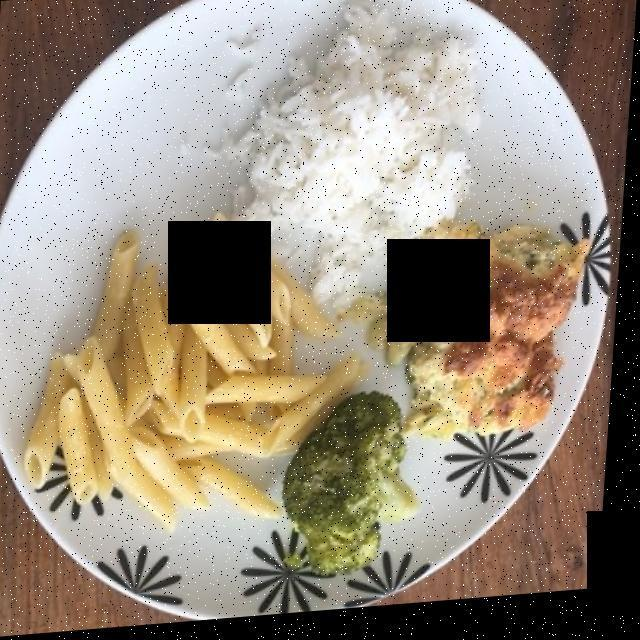broccoli: (292, 411, 419, 578)
pasta: (34, 222, 361, 523)
rice: (237, 9, 478, 303)
